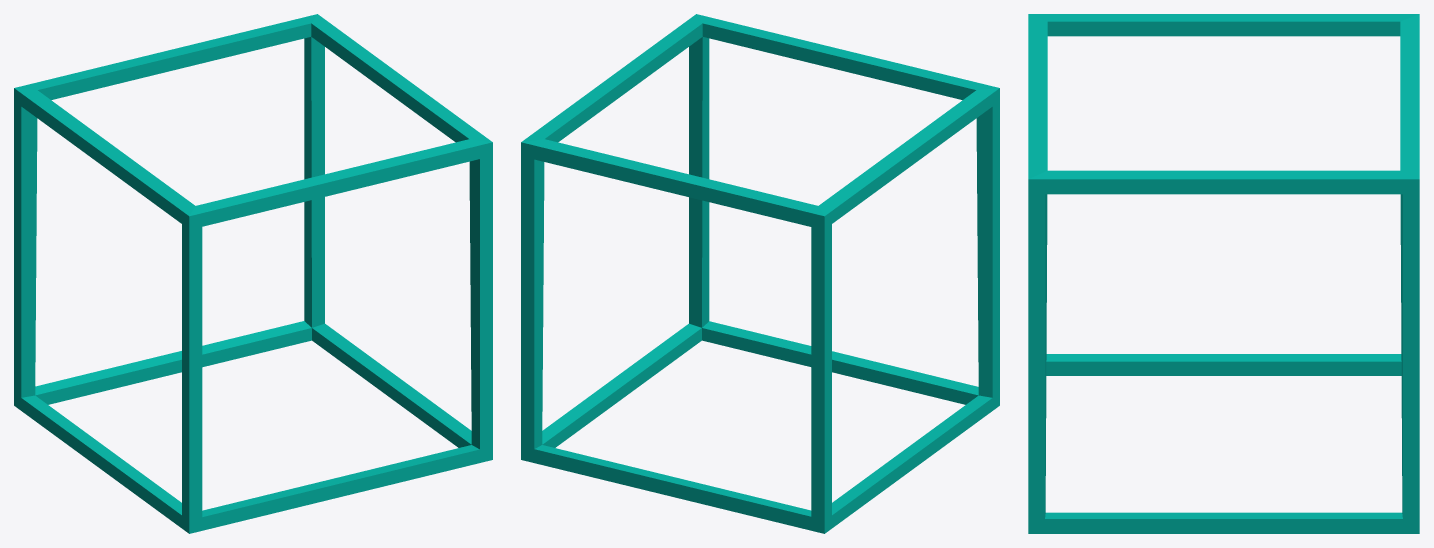
The model's file is Cube_cyan_1.fbx.
3 renders of one model, left to right at view 1: azimuth 30°, elevation 25°; view 2: azimuth 150°, elevation 25°; view 3: azimuth 270°, elevation 25°, orthographic. The views are drawn at different scales.
Visible parts, largest first — view 1: pCube2335; view 2: pCube2335; view 3: pCube2335.
Part boxes in pixels (left/top/right/bottom): pCube2335: left=14, top=14, right=492, bottom=533; pCube2335: left=521, top=14, right=999, bottom=533; pCube2335: left=1028, top=14, right=1419, bottom=533.
Size of the model in its own units: 2.83 by 2.84 by 2.83.
